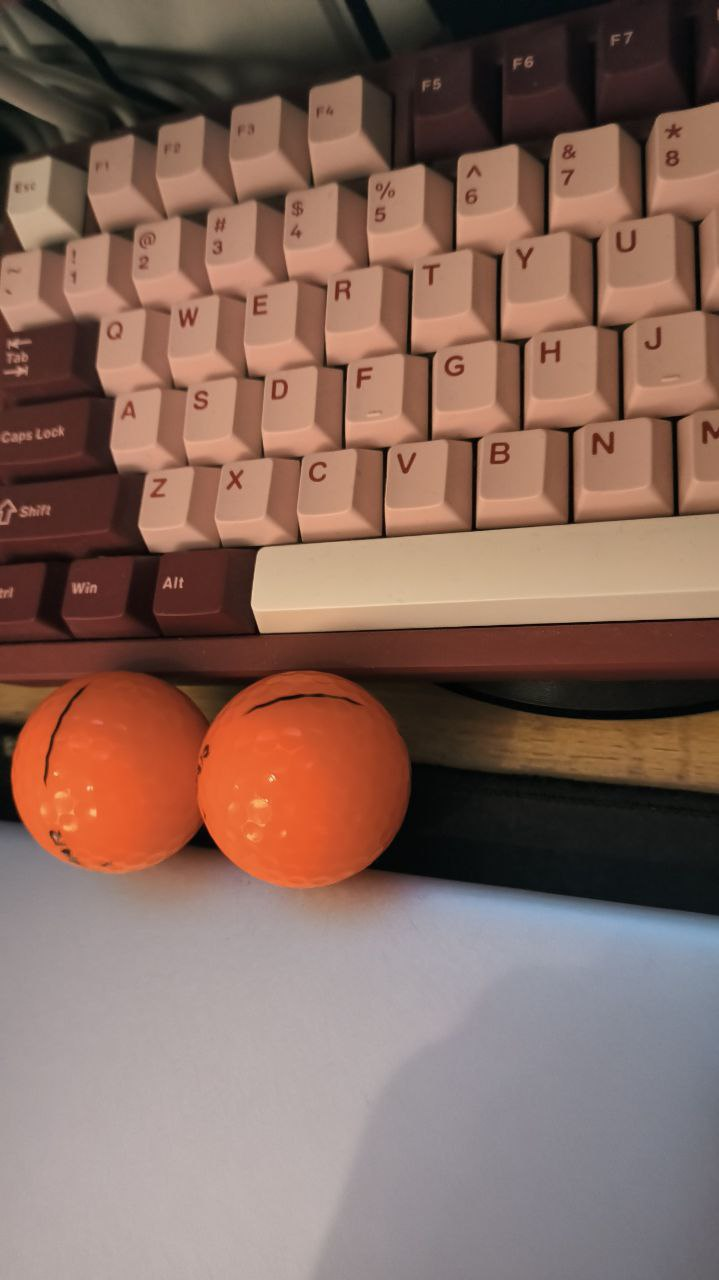orange_ball: (195, 666, 413, 891), (8, 668, 211, 875)
